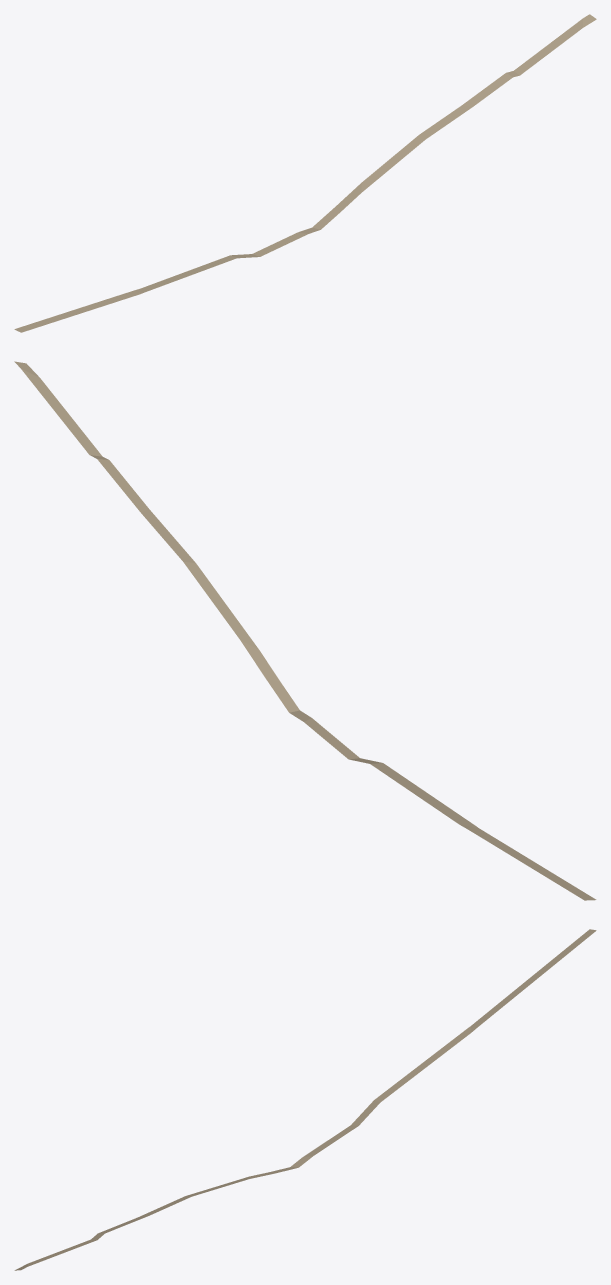
File: farm_-9_11_track.glb
3 views of the same model, one above another, from view 1: azimuth 90°, elevation 25°; view 2: azimuth 150°, elevation 25°; view 3: azimuth 270°, elevation 25° (orthographic). The views are drawn at different scales.
Visible parts, largest first — view 1: geometry_0; view 2: geometry_0; view 3: geometry_0.
Part boxes in pixels (x1=…): geometry_0: x1=14, y1=14, x2=596, y2=332; geometry_0: x1=14, y1=361, x2=596, y2=900; geometry_0: x1=14, y1=929, x2=596, y2=1270.
Size of the model in its own units: 282 by 27.38 by 211.
